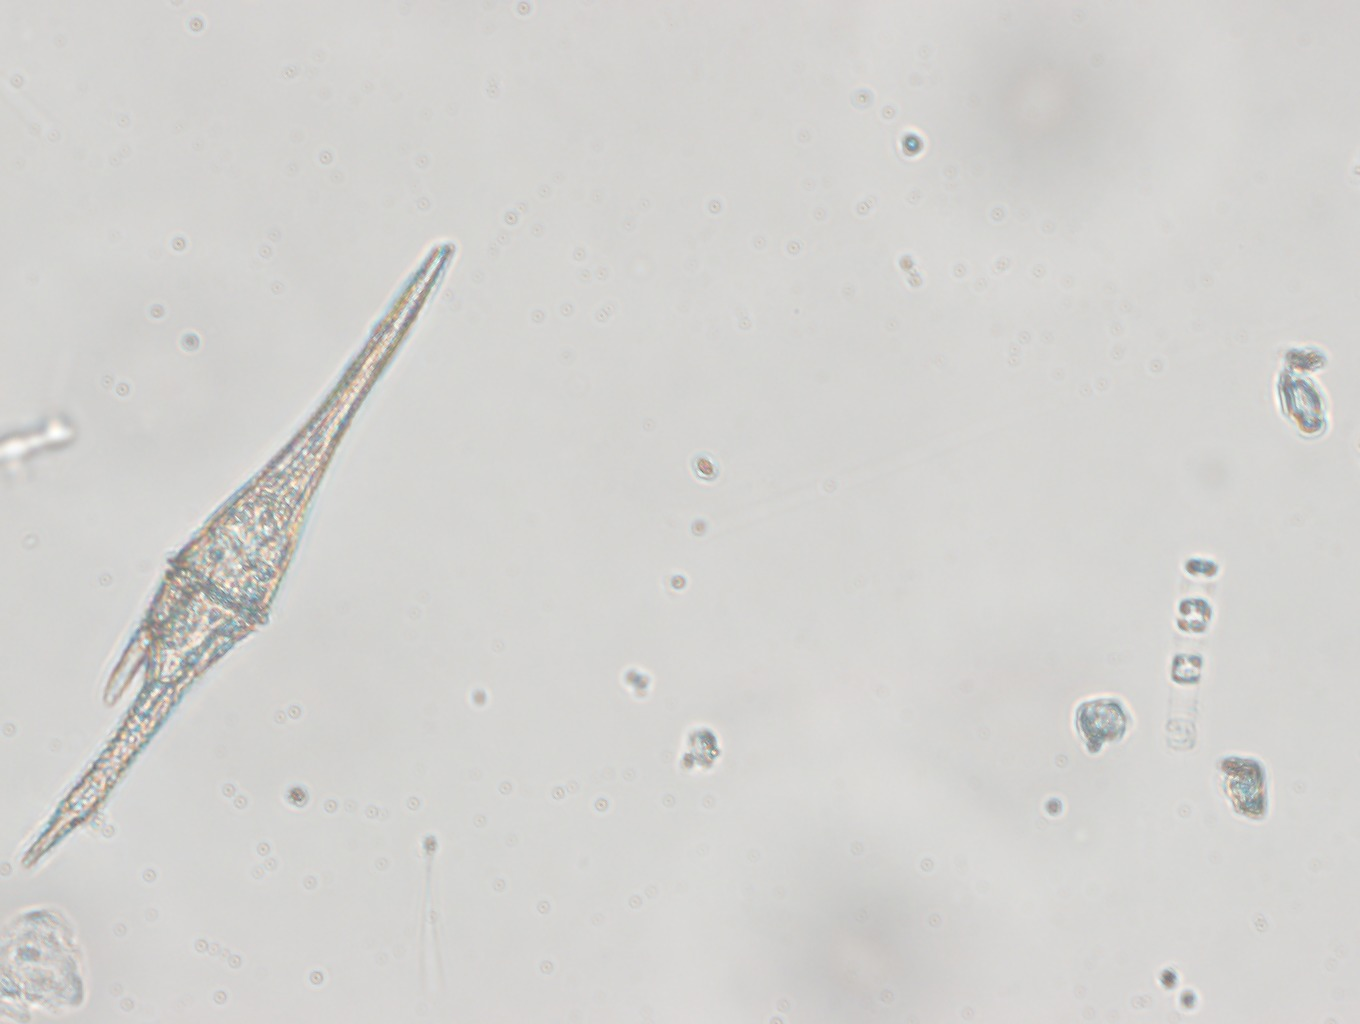ceratium furca: (20, 236, 457, 874)
skeletonema: (1160, 551, 1219, 756)
